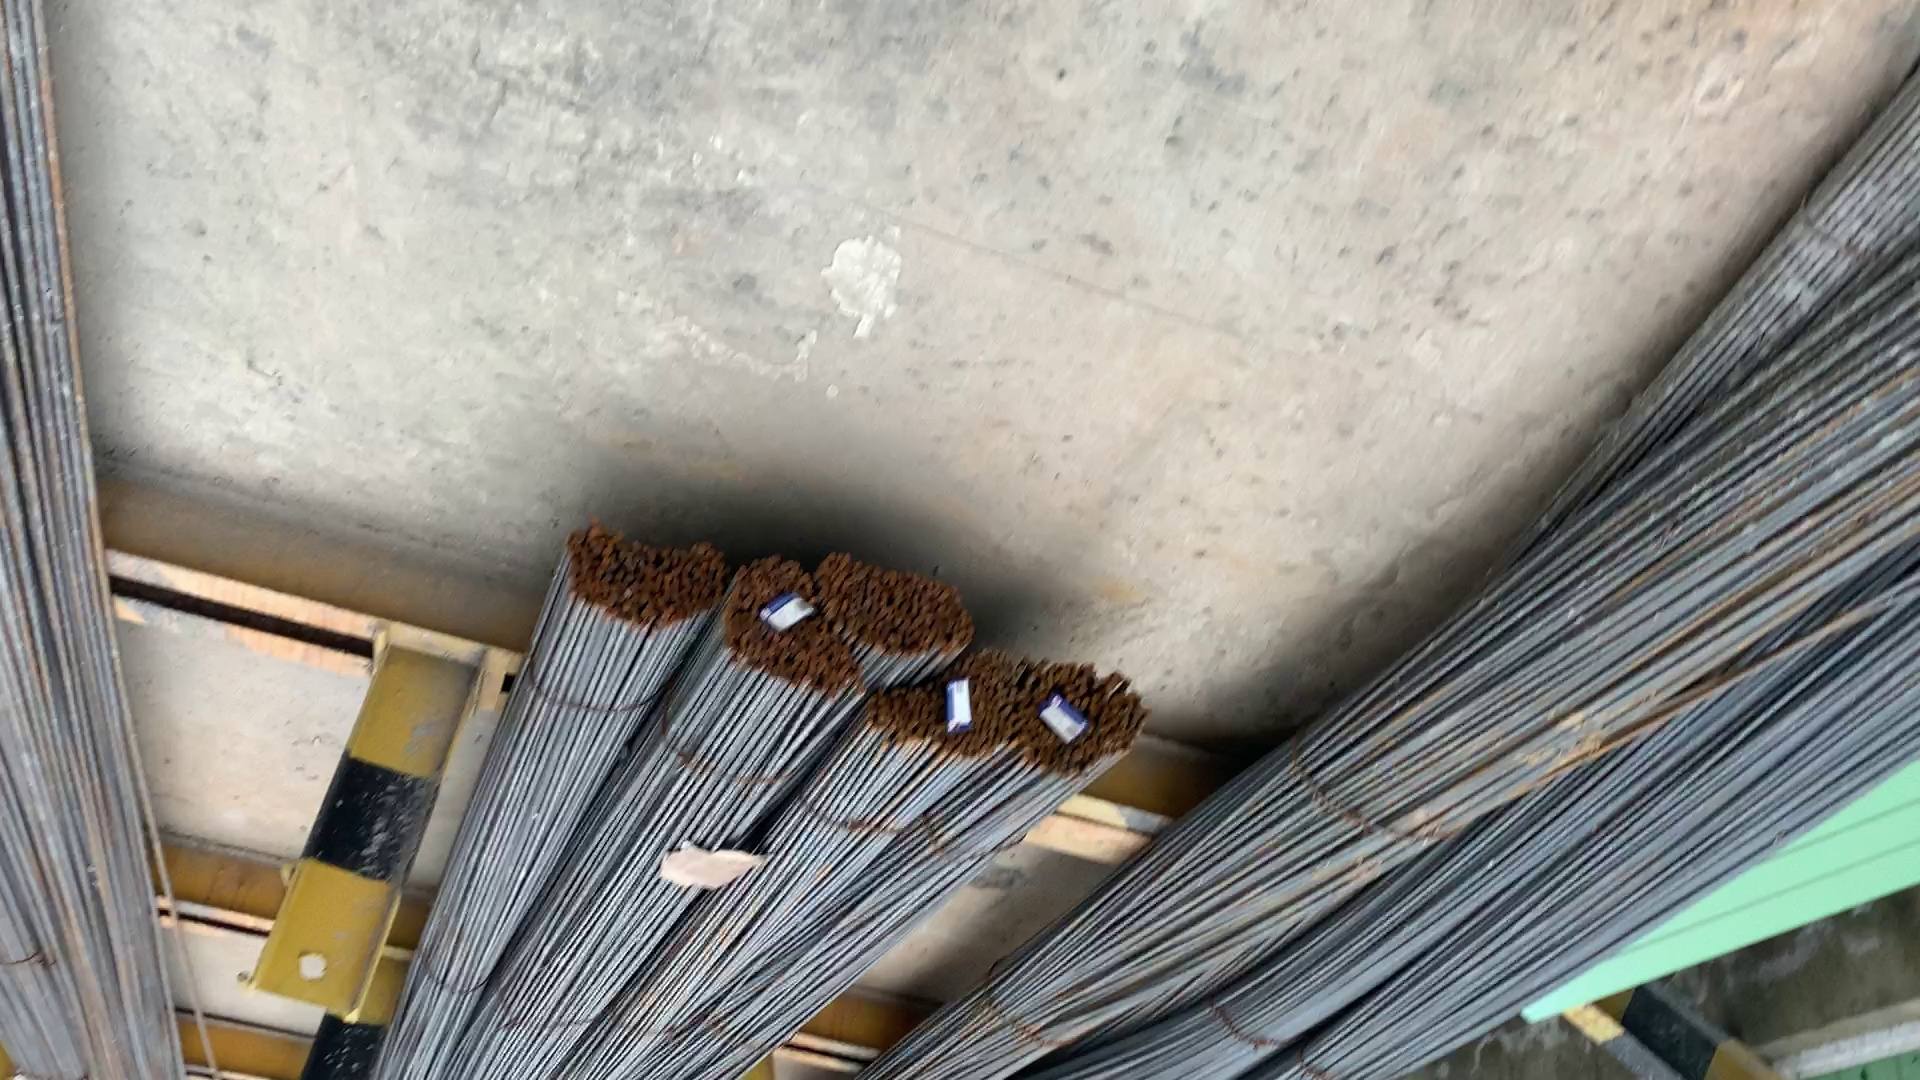rebar: (564, 526, 717, 642), (723, 556, 847, 694), (824, 558, 967, 665), (874, 665, 1018, 761), (1019, 665, 1141, 762)
